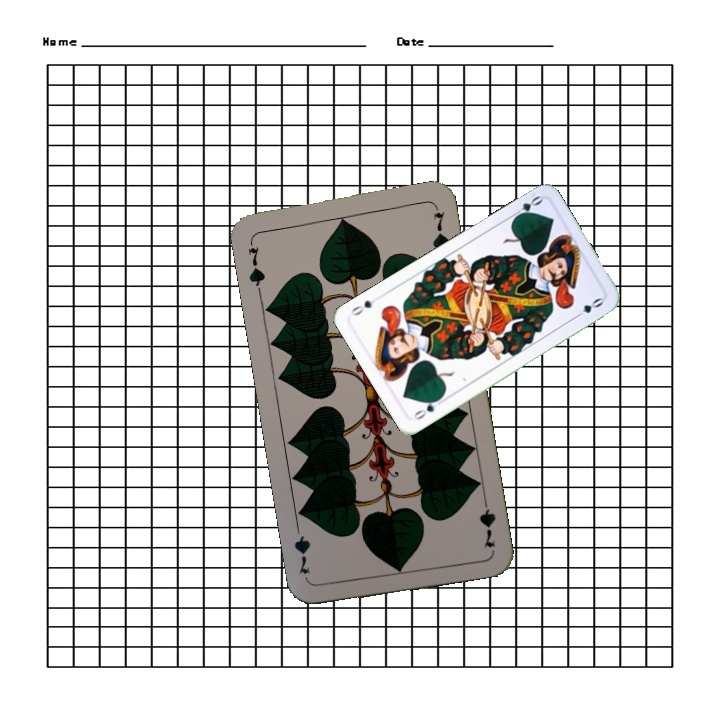G7: (243, 236, 268, 295), (475, 491, 498, 551)
GO: (507, 191, 545, 222), (409, 393, 444, 423)
